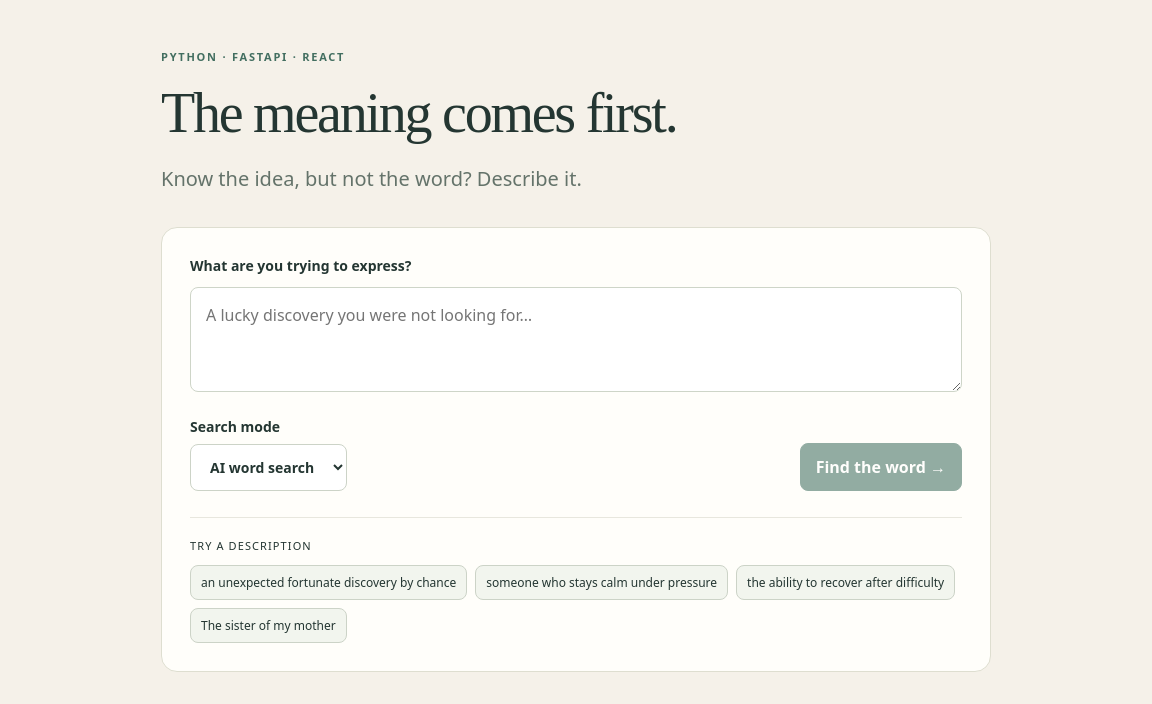
Test: searches beyond the catalog in AI mode and labels model suggestions
The image size is (1152, 704).
Step 1. Select "AI word search" in the dropdown labelled "Search mode" → (268, 468), box [190,444,347,491]
Step 2. Type "The sister of my mother" into the text box labelled "What are you trying to express?" → (576, 340), box [190,287,962,392]
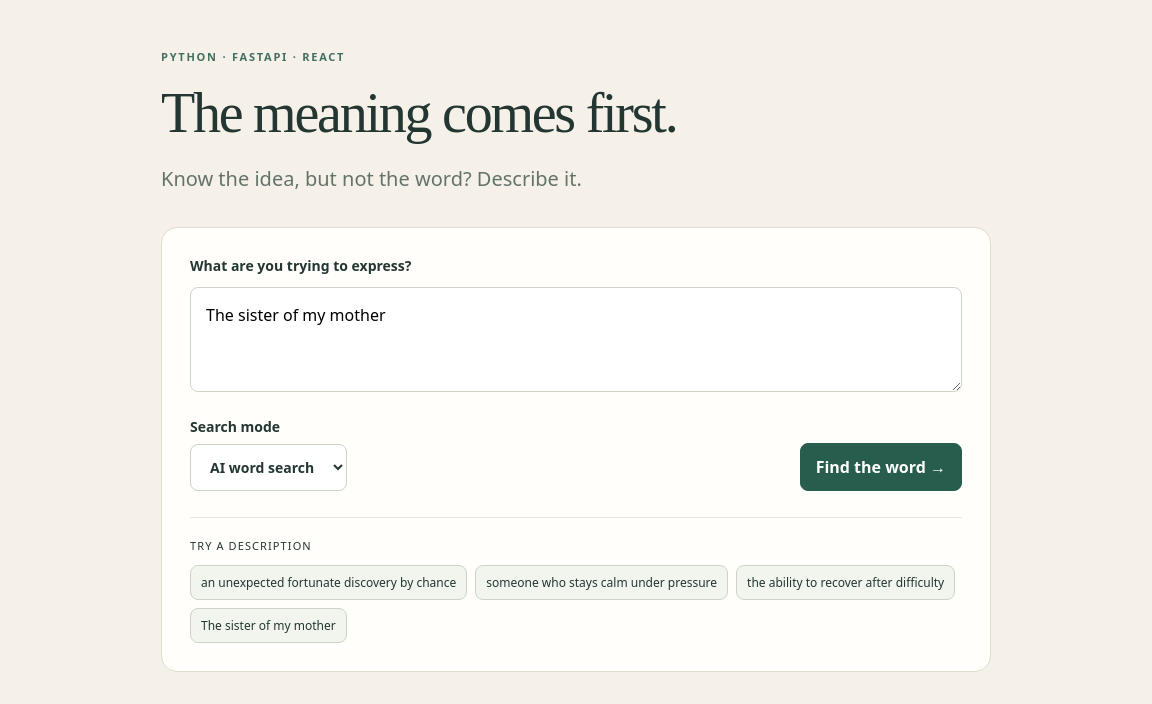
Step 3. Click the button "Find the word →" → (881, 467), box [800,443,962,491]
(page scrolled)
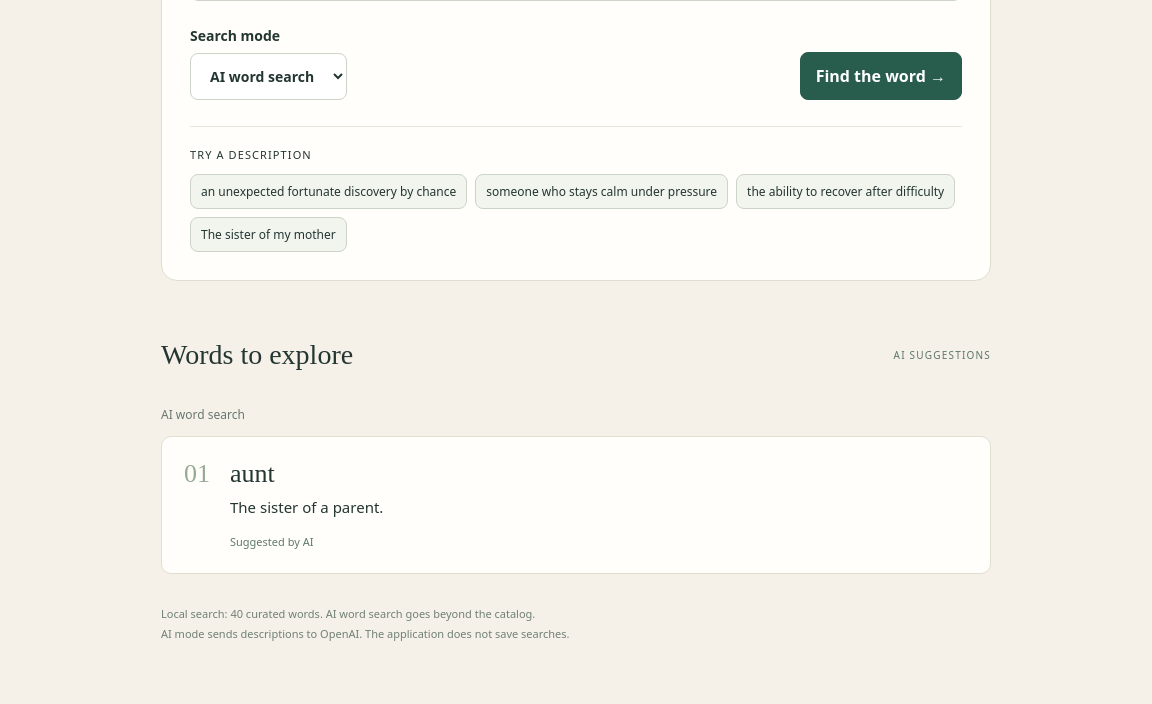
Check: the heading "aunt" is shown, box [230,460,275,488]
Check: the text "Suggested by AI" is shown, box [230,534,313,550]
